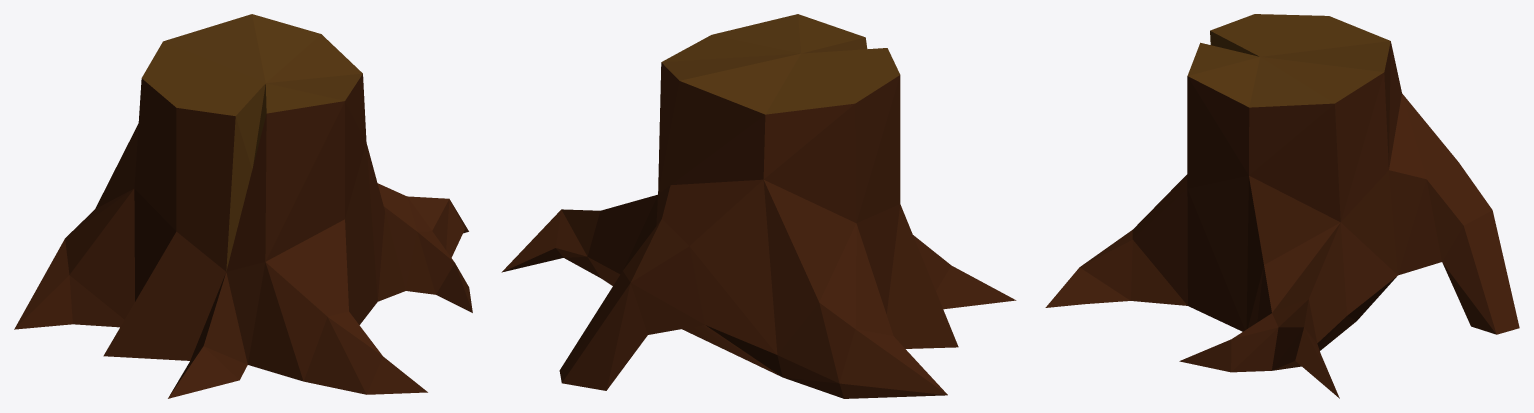
Rendered from Axe_wood_2.fbx.
3 views of the same model, side by side, from view 1: azimuth 30°, elevation 25°; view 2: azimuth 150°, elevation 25°; view 3: azimuth 270°, elevation 25° (orthographic). The views are drawn at different scales.
Visible parts, largest first — view 1: Axe_wood_2; view 2: Axe_wood_2; view 3: Axe_wood_2.
Part boxes in pixels (x1=…): Axe_wood_2: x1=14, y1=14, x2=472, y2=398; Axe_wood_2: x1=501, y1=14, x2=1016, y2=398; Axe_wood_2: x1=1045, y1=14, x2=1519, y2=398.
Size of the model in its own units: 161 by 86.18 by 157.
